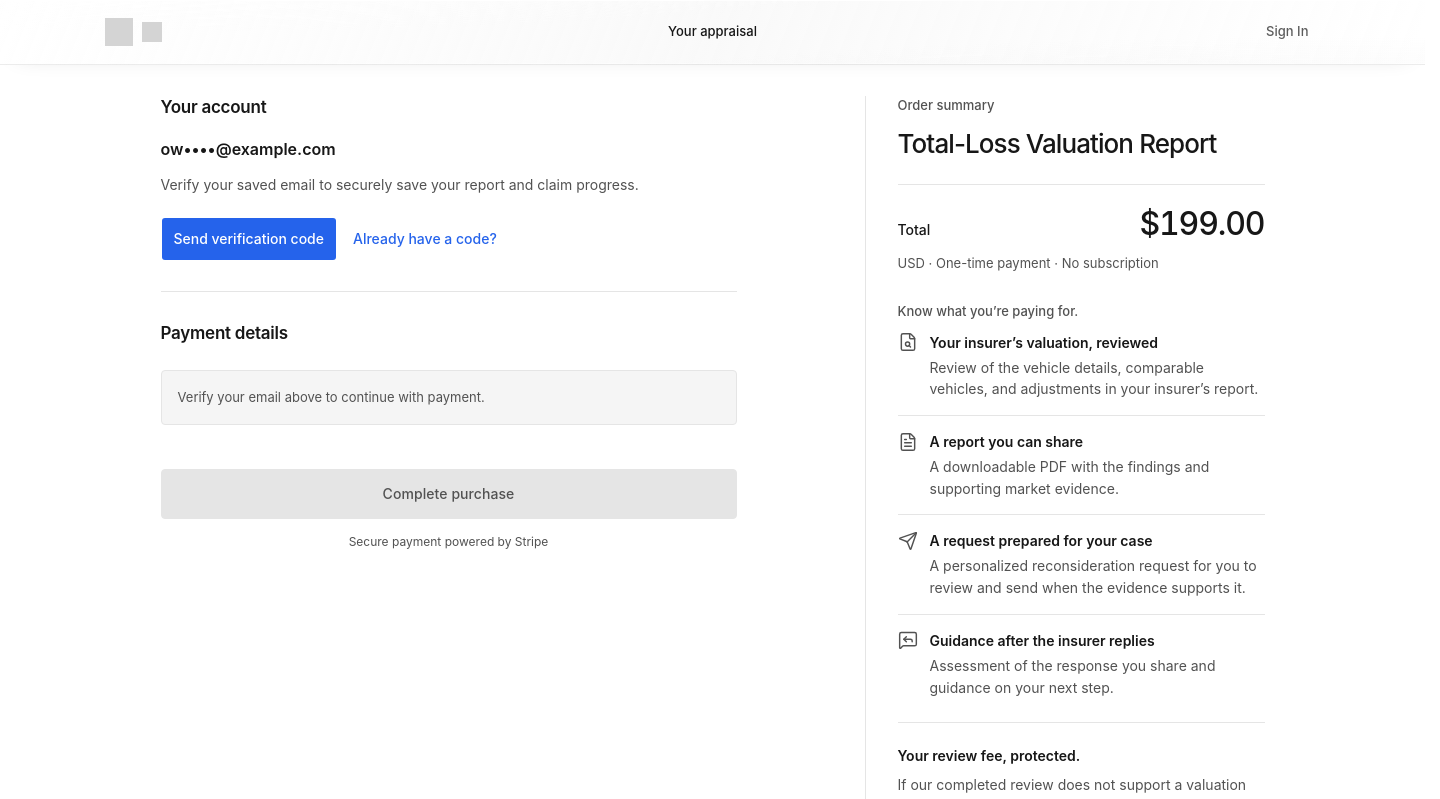
Test case: local purchase email verification › shows safe copy for invalid_code and allows another attempt
The width and height of the screenshot is (1440, 799).
Click the button "Send verification code": click(249, 239) [160, 217, 337, 261]
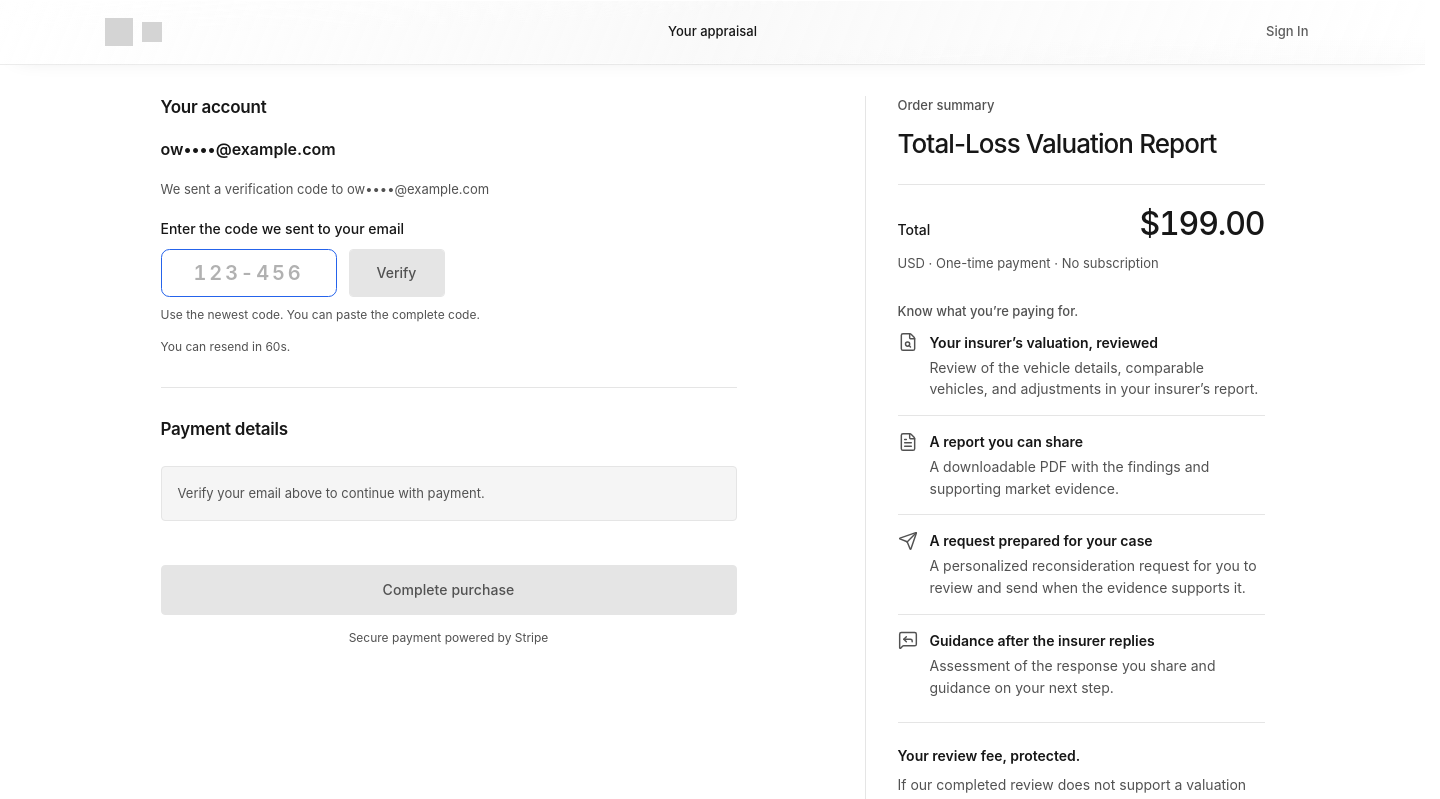
In the field labelled "Enter the code we sent to your email": (248, 273) [160, 249, 336, 297], type "123456"
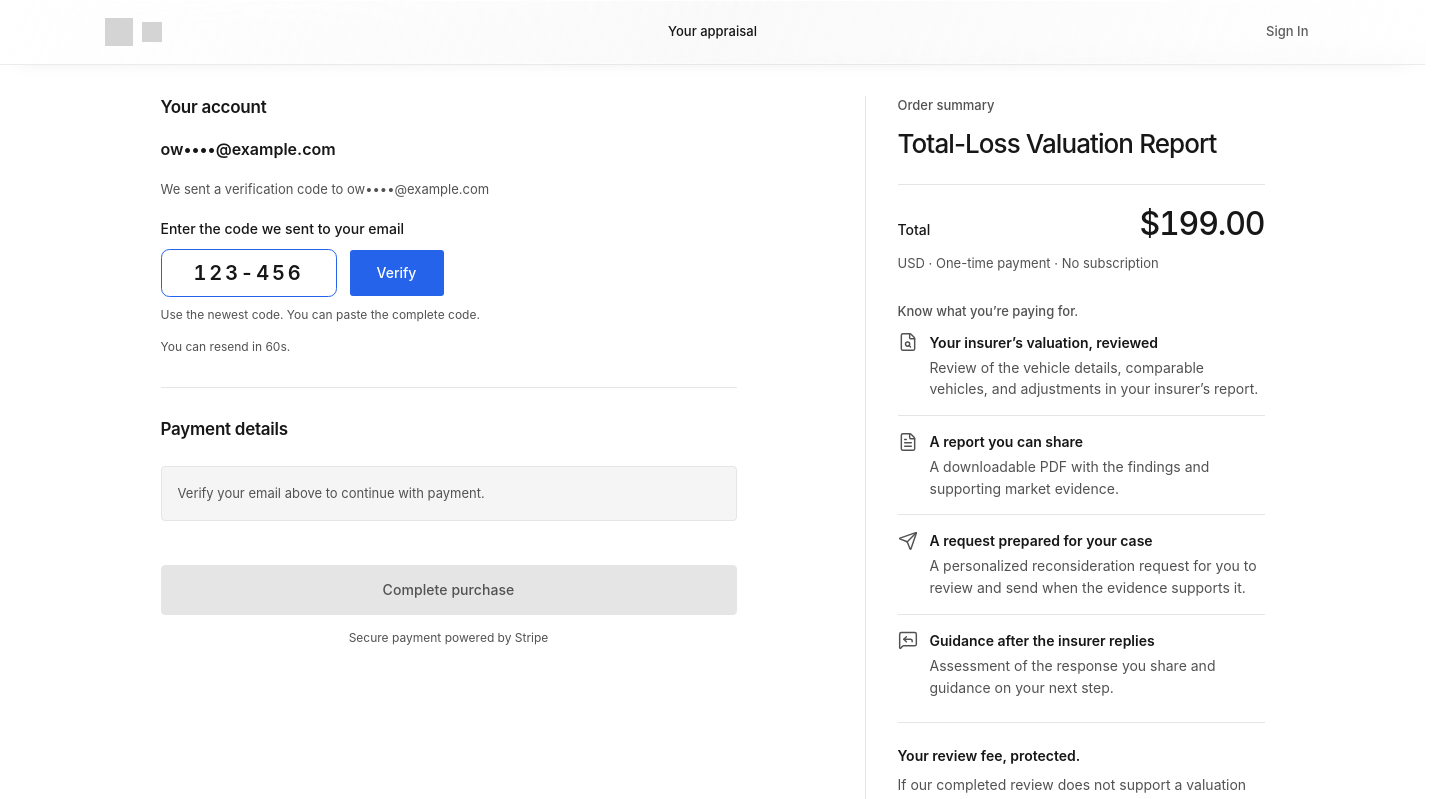
Click the button "Verify": click(396, 273) [348, 249, 444, 297]
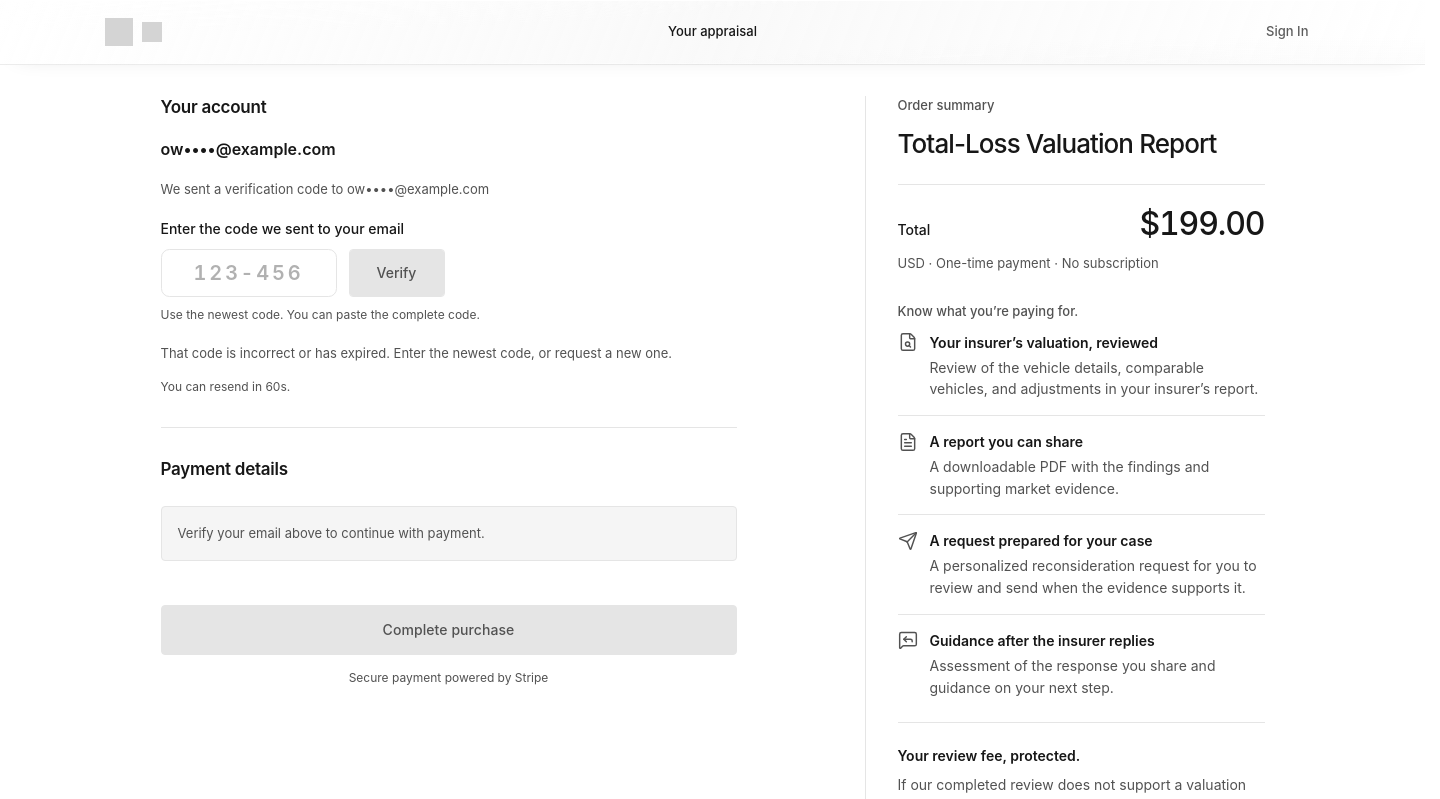
Result: the field labelled "Enter the code we sent to your email" is enabled
Result: the 2nd message shows "That code is incorrect or has expired. Enter the newest code, or request a new one." at [160, 345, 672, 361]
Result: the field labelled "Enter the code we sent to your email" is empty
In the field labelled "Enter the code we sent to your email": (248, 273) [160, 249, 336, 297], type "654321"
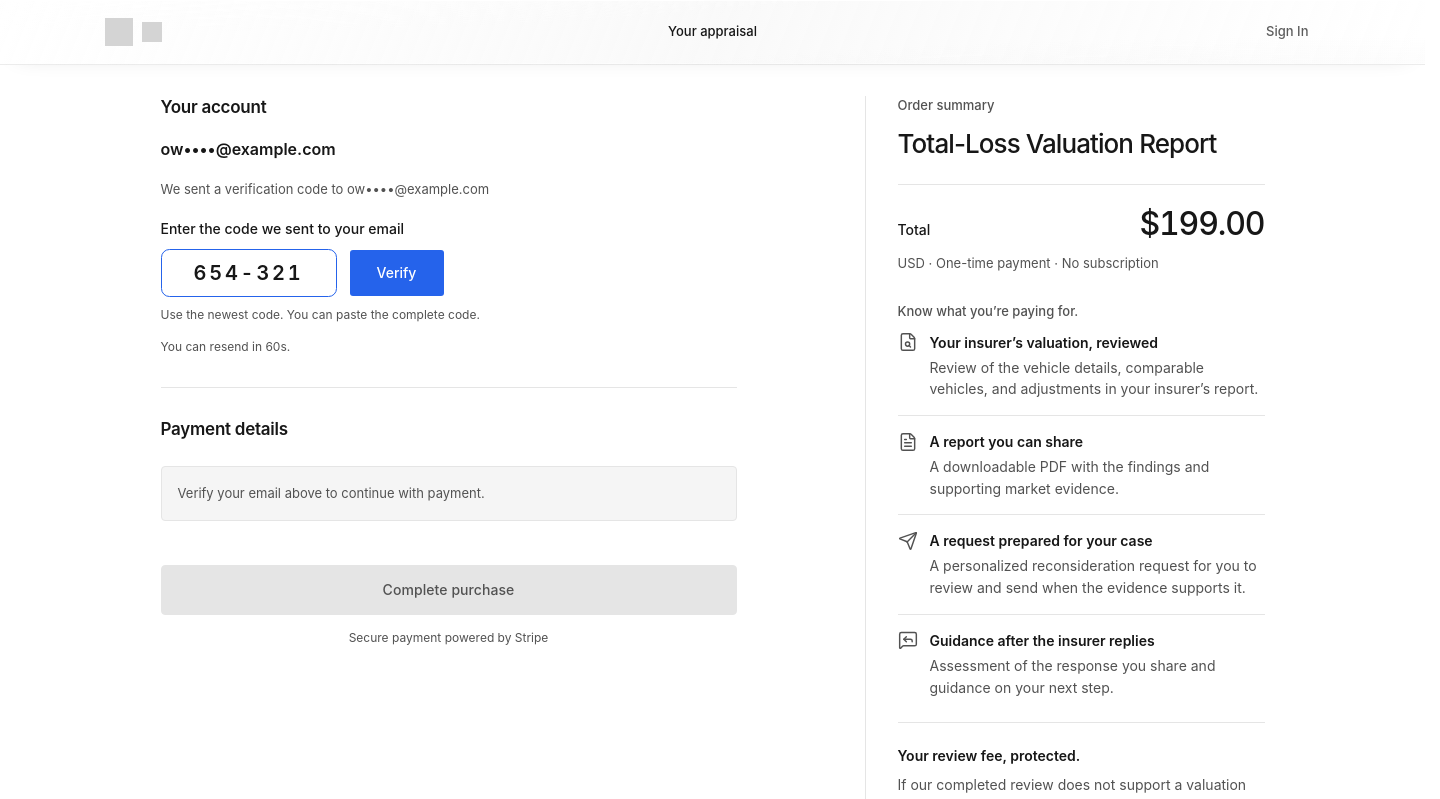
Result: the button "Verify" is enabled at [348, 249, 444, 297]
